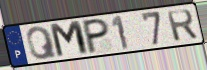1: (111, 14, 131, 52)
7: (140, 10, 163, 47)
M: (47, 19, 91, 60)
P: (82, 17, 111, 56)
Q: (25, 25, 59, 61)
R: (165, 8, 200, 44)
